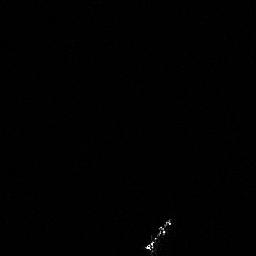ship: (140, 214, 177, 255)
